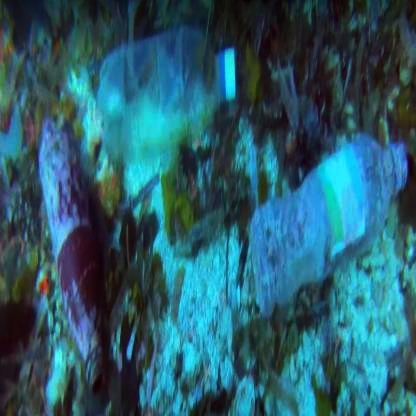gbottle: (43, 108, 111, 406)
pbottle: (227, 140, 416, 268), (76, 16, 242, 151)
